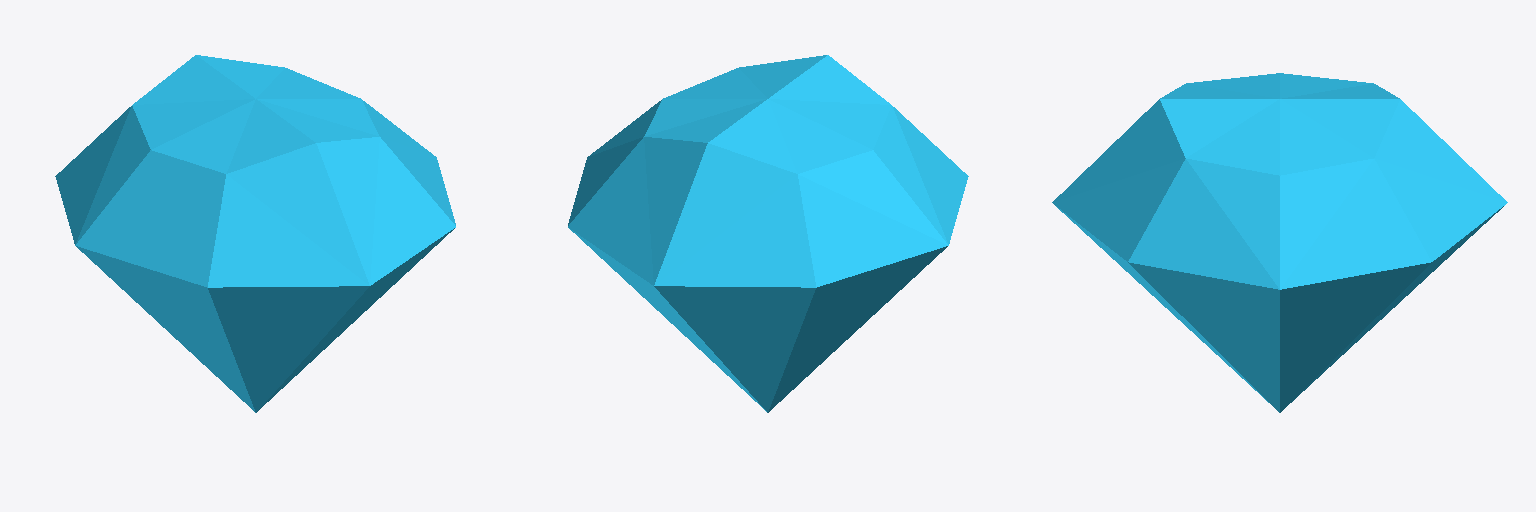
Rendered from Diamond.obj.
3 views of the same model, side by side, from view 1: azimuth 30°, elevation 25°; view 2: azimuth 150°, elevation 25°; view 3: azimuth 270°, elevation 25° (orthographic).
Visible parts, largest first — view 1: Diamond_Plane.007; view 2: Diamond_Plane.007; view 3: Diamond_Plane.007.
Boxes of the visible parts, x1,y1,x2,y2 form: Diamond_Plane.007: [55, 55, 455, 412]; Diamond_Plane.007: [568, 55, 968, 412]; Diamond_Plane.007: [1052, 73, 1507, 412].
Size of the model in its own units: 1.05 by 0.8749 by 1.15.